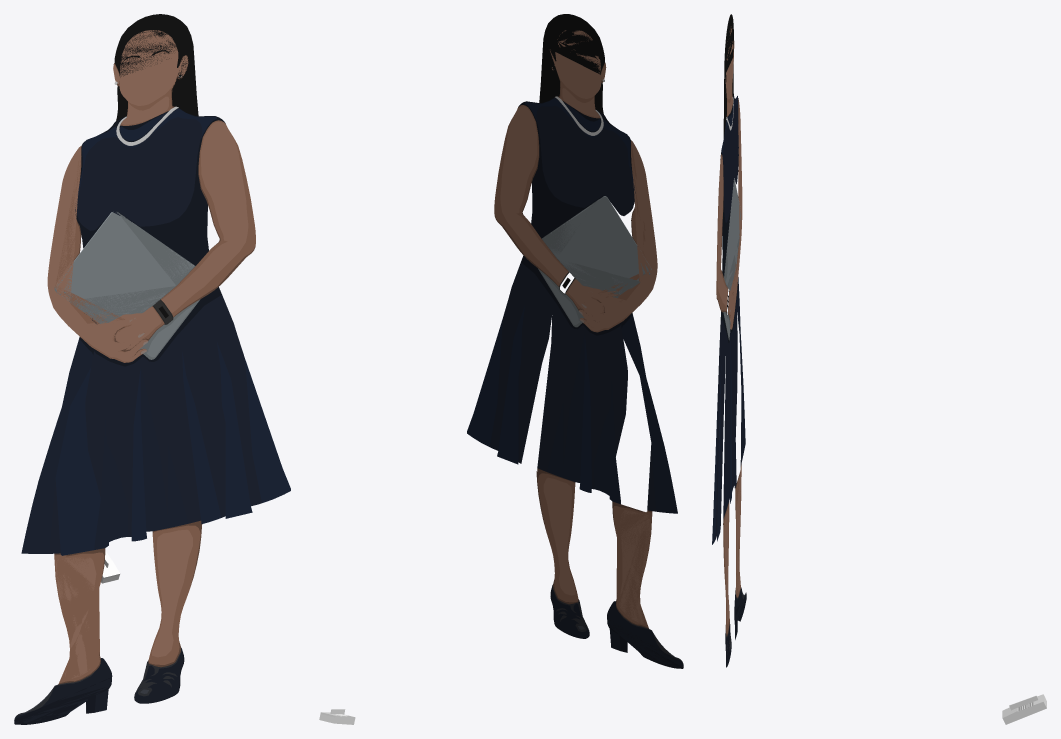
Rendered from Escherian_Stairwell.fbx.
3 renders of one model, left to right at view 1: azimuth 30°, elevation 25°; view 2: azimuth 150°, elevation 25°; view 3: azimuth 270°, elevation 25°, orthographic. The views are drawn at different scales.
Visible parts, largest first — view 1: Sree1; view 2: Sree1; view 3: Sree1, Escherian_Stairwell_stl1.
Part boxes in pixels (left/top/right/bottom): Sree1: left=14, top=14, right=290, bottom=724; Sree1: left=467, top=14, right=683, bottom=668; Sree1: left=712, top=14, right=746, bottom=667; Escherian_Stairwell_stl1: left=1002, top=694, right=1046, bottom=724.
Bounding box in the file's own units: 24.64 × 63.88 × 29.57.
